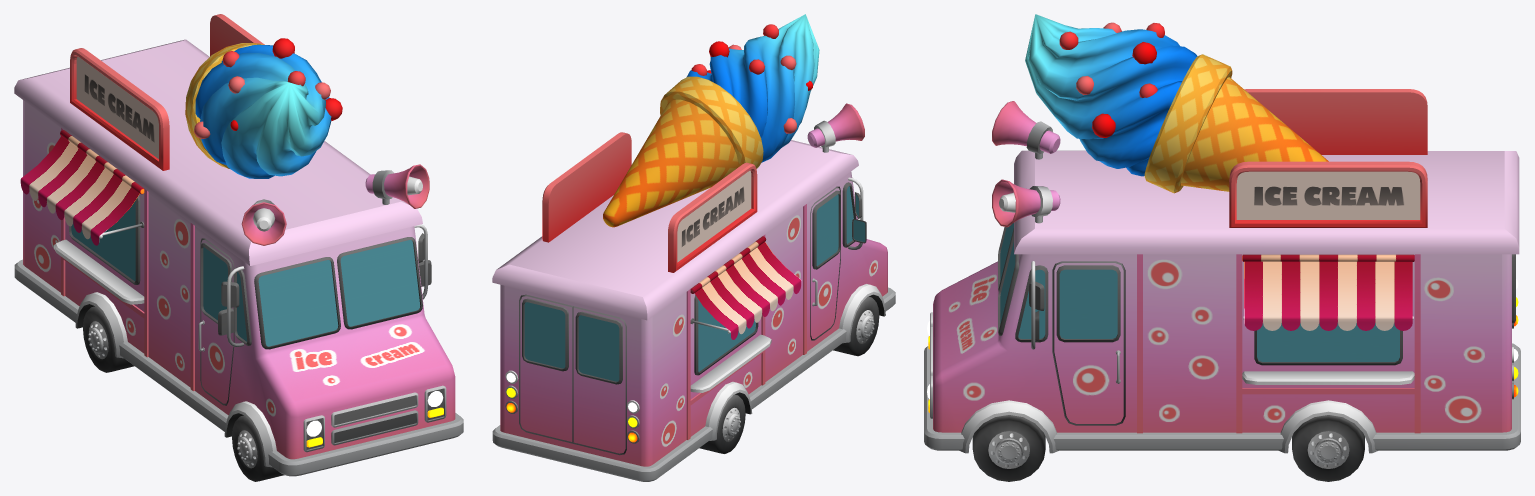
The model's file is truck_ice_cream.glb.
The picture shows the model from 3 angles, left to right: view 1: azimuth 30°, elevation 25°; view 2: azimuth 150°, elevation 25°; view 3: azimuth 270°, elevation 25°; orthographic projection. The views are drawn at different scales.
Parts seen in each view (by area): view 1: Car_Ice_Material #1389_0; view 2: Car_Ice_Material #1389_0; view 3: Car_Ice_Material #1389_0.
Boxes of the visible parts, x1,y1,x2,y2 form: Car_Ice_Material #1389_0: (14,14,463,481); Car_Ice_Material #1389_0: (492,14,895,481); Car_Ice_Material #1389_0: (924,14,1520,481).
Bounding box in the file's own units: 3.24 × 4.48 × 6.02.
1 material, 1 textured.
